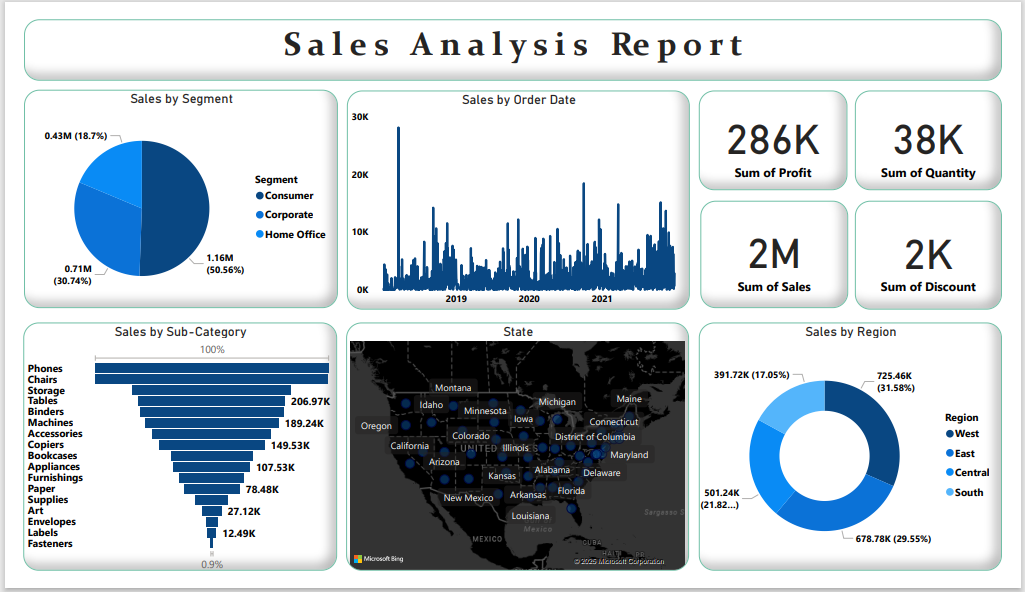

What the dashboard file says about the page in this screenshot:
{"tool":"powerbi","page":{"name":"Page 1","canvas":[1280,720],"ordinal":0},"visuals":[{"type":"donutChart","title":"Sales by Region","fields":{"Category":["Orders.Region"],"Y":["Sum(Orders.Sales)"]},"box":[883.1,396.4,396.4,323.9],"z":0},{"type":"funnel","title":"Sales by Sub-Category","fields":{"Category":["Orders.Sub-Category"],"Y":["Sum(Orders.Sales)"]},"box":[0,396.4,409.7,323.9],"z":1},{"type":"map","fields":{"Category":["Orders.State"]},"box":[421.6,396.4,448.2,323.9],"z":2},{"type":"pieChart","title":"Sales by Segment","fields":{"Category":["Orders.Segment"],"Y":["Sum(Orders.Sales)"]},"box":[1.5,91.7,409.7,285.5],"z":3},{"type":"lineChart","title":"Sales by Order Date","fields":{"Category":["Orders.Order Date"],"Y":["Sum(Orders.Sales)"]},"box":[423,93.2,448.2,285.5],"z":4},{"type":"card","fields":{"Values":["Sum(Orders.Sales)"]},"box":[884.5,236.7,193.8,140.5],"z":5},{"type":"card","fields":{"Values":["Sum(Orders.Discount)"]},"box":[1087.2,236.7,192.3,142],"z":6},{"type":"card","fields":{"Values":["Sum(Orders.Profit)"]},"box":[883.1,93.2,193.8,130.2],"z":7},{"type":"card","fields":{"Values":["Sum(Orders.Quantity)"]},"box":[1087.2,93.2,192.3,130.2],"z":8},{"type":"textbox","box":[1.5,0,1278,79.9],"z":9}]}

Visuals, with their boxes in screenshot pixels (x1, y1, x2, y2), scaled from the page's 1280x720 canvas onto the 1025x592 screenshot:
"Sales by Region" donutChart: (707,326,1024,591)
"Sales by Sub-Category" funnel: (0,326,328,591)
map - Orders.State: (338,326,697,591)
"Sales by Segment" pieChart: (1,75,329,310)
"Sales by Order Date" lineChart: (339,77,698,311)
card - Sum(Orders.Sales): (708,195,863,310)
card - Sum(Orders.Discount): (871,195,1024,311)
card - Sum(Orders.Profit): (707,77,862,184)
card - Sum(Orders.Quantity): (871,77,1024,184)
textbox: (1,0,1024,66)
